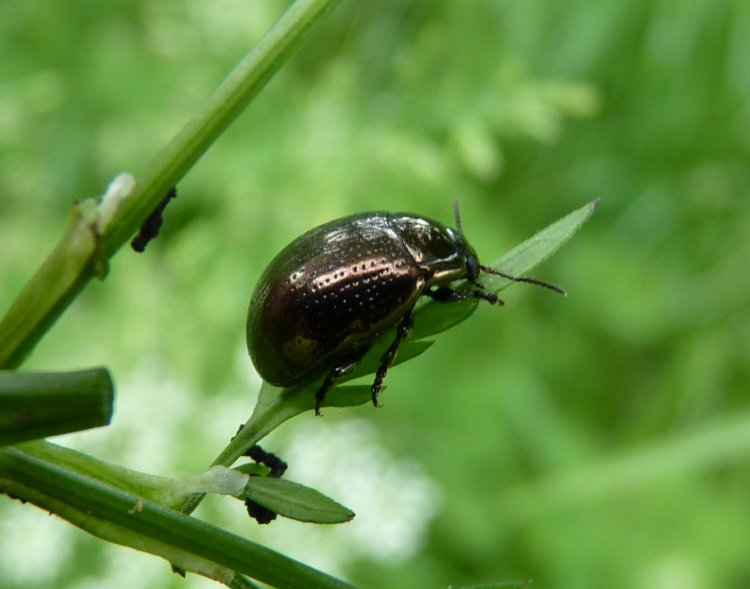Chrysolina_oricalcia: (232, 196, 575, 421)
